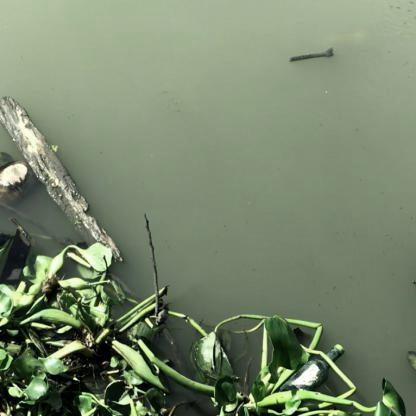Glass: (286, 342, 349, 395)
